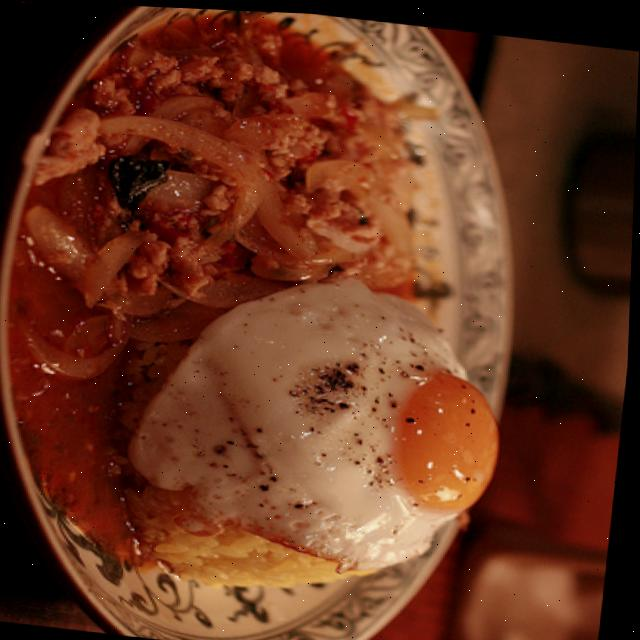鸡蛋料理: (103, 239, 552, 610)
